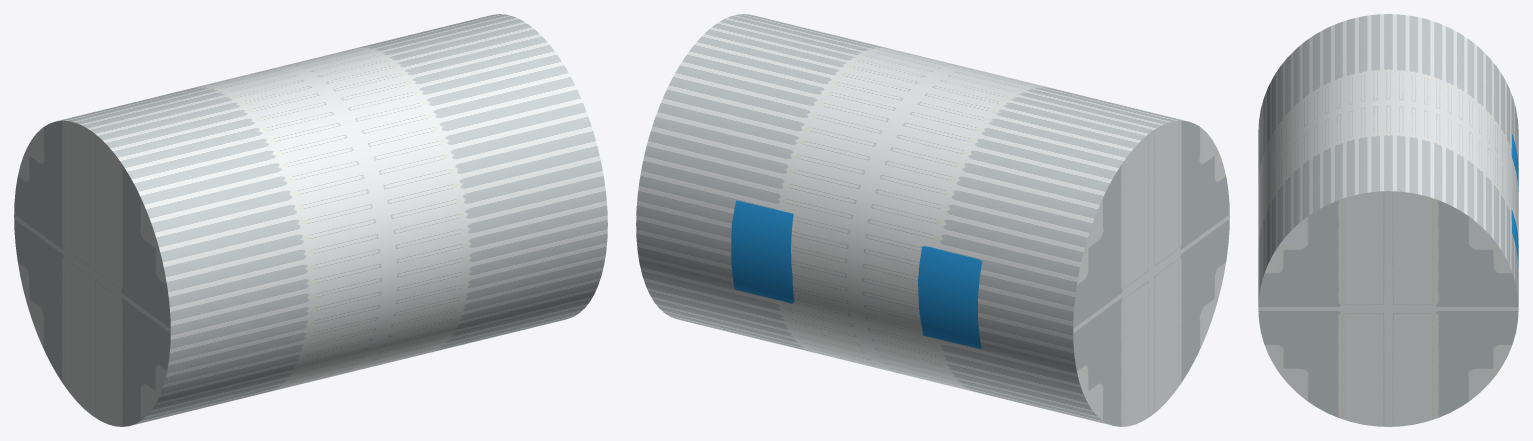
File: head.fbx
3 renders of one model, left to right at view 1: azimuth 30°, elevation 25°; view 2: azimuth 150°, elevation 25°; view 3: azimuth 270°, elevation 25°, orthographic. The views are drawn at different scales.
Visible parts, largest first — view 1: Head; view 2: Head; view 3: Head.
Part boxes in pixels (x1,y1,x2,y2): Head: [14, 14, 607, 426]; Head: [636, 14, 1229, 426]; Head: [1258, 14, 1518, 426].
Size of the model in its own units: 0.805 by 0.5 by 0.5.
